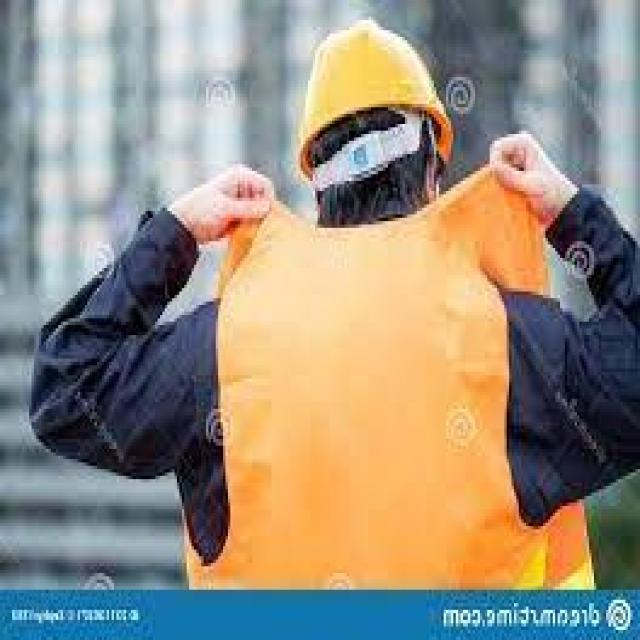Reflective-Jacket: (131, 168, 606, 590)
Safety-Helmet: (288, 17, 461, 161)
